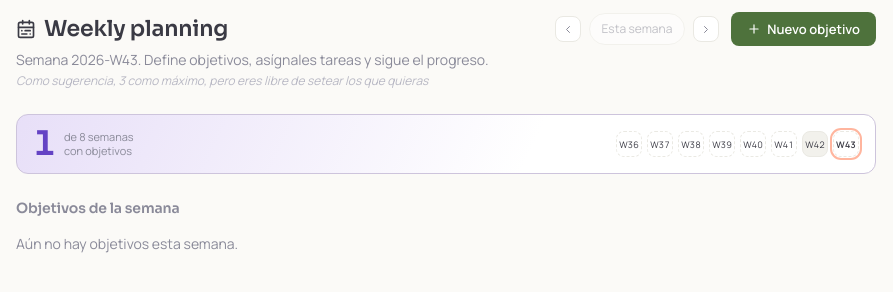
Test: WeeklyPlanningView › se puede mirar y editar otra semana, no solo la actual
The image size is (893, 292).
Check: the text "lo de la semana pasada" is not shown
Click the button named "Semana anterior".
click(568, 29)  # box [554,16,580,42]
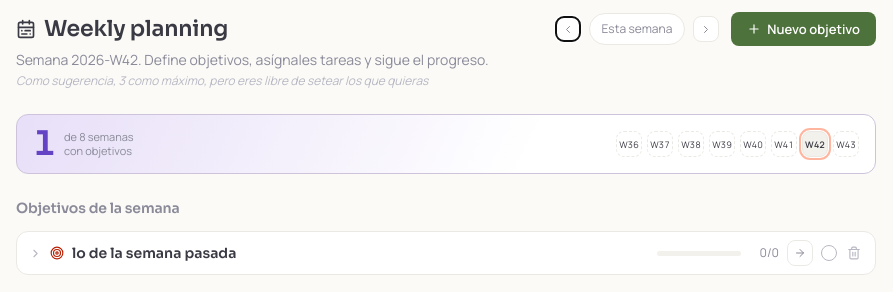
Check: the button "lo de la semana pasada" is shown, box [72,244,649,262]
Check: the button "Esta semana" is enabled, box [588,13,685,45]
